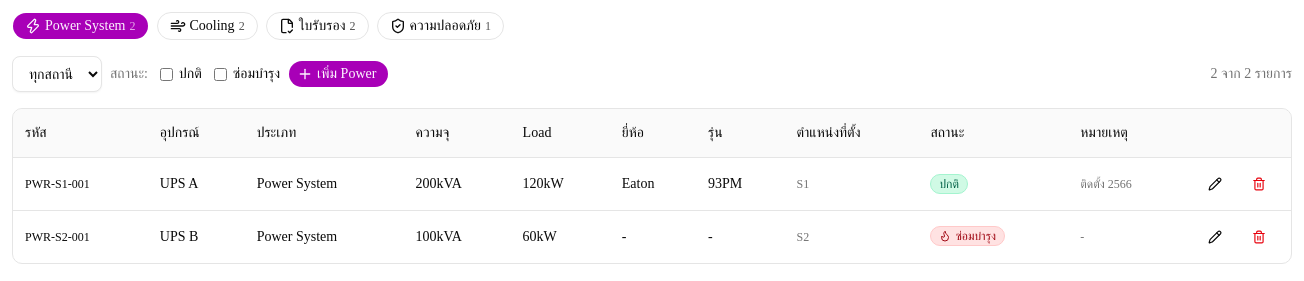
Test case: EngineeringClient — tabs & power filters › shows count text and filters power by site
Expected: the text "2 จาก 2 รายการ" is shown, [1211, 64, 1292, 84]
Select "S1" in the dropdown at (57, 74), box [12, 56, 102, 92]
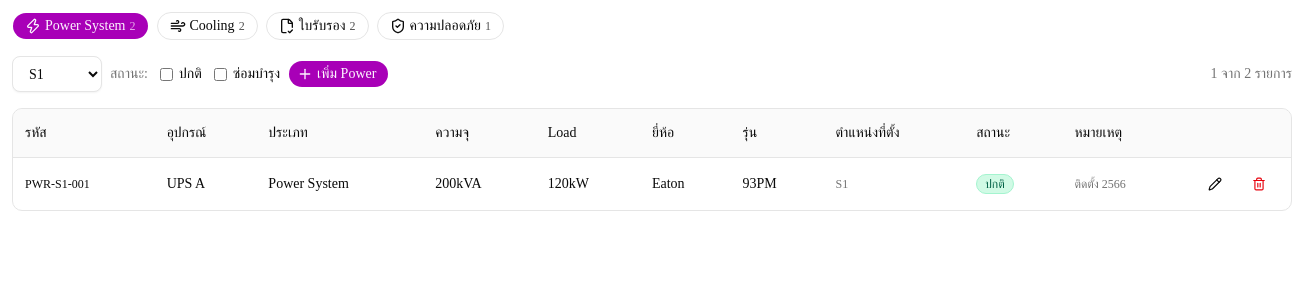
Expected: the text "UPS A" is shown, [155, 157, 256, 210]
Now the text "1 จาก 2 รายการ" is shown, box [1211, 64, 1292, 84]
Now the text "UPS B" is gone
